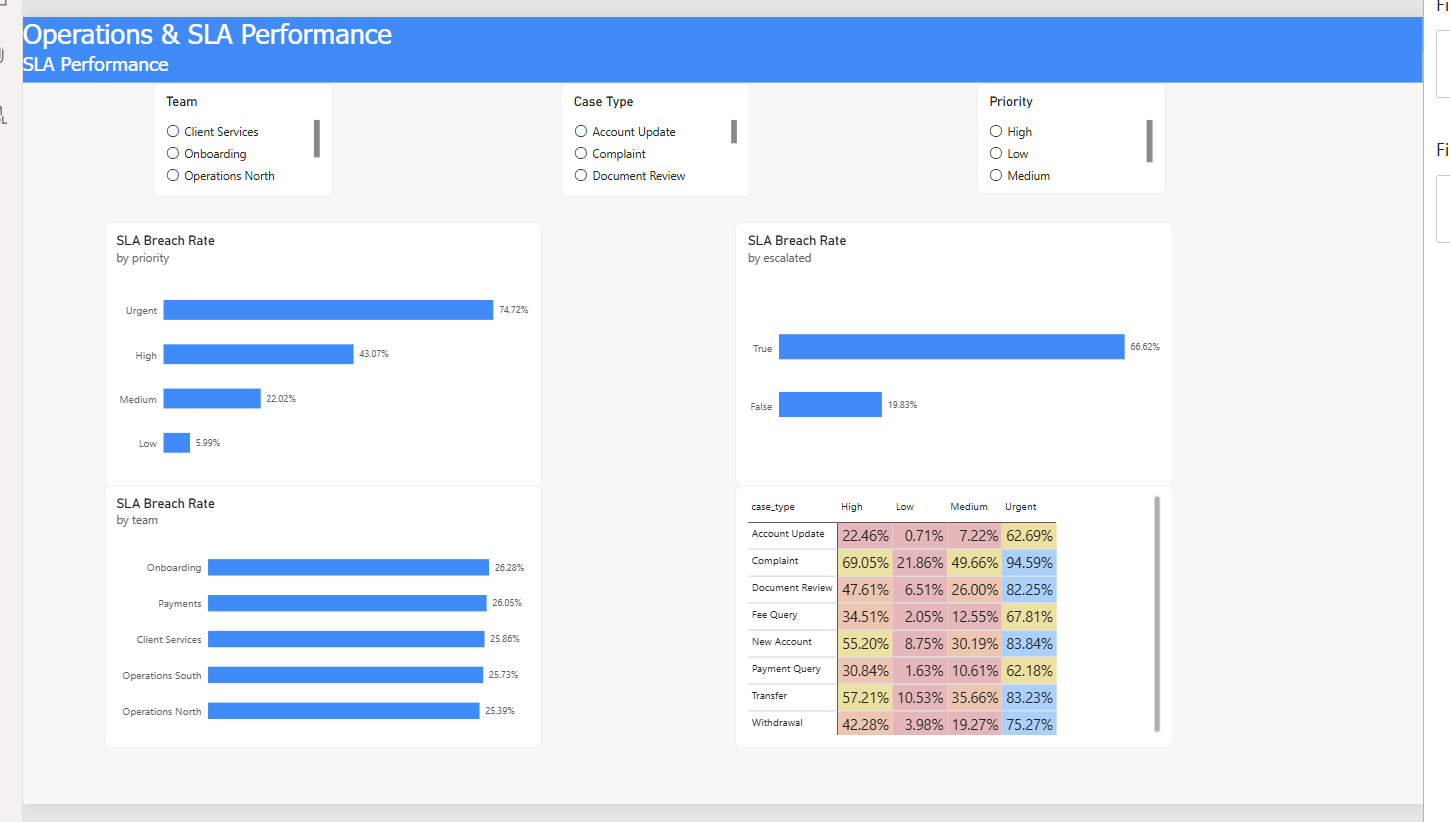

What the dashboard file says about the page in this screenshot:
{"tool":"powerbi","page":{"name":"SLA Performance","canvas":[1920,1080],"ordinal":1},"visuals":[{"type":"clusteredBarChart","fields":{"Category":["analysis_cases (002).priority"],"Y":["analysis_cases (002).SLA Breach Rate"]},"box":[110.4,281.3,600.2,360.5],"z":0},{"type":"clusteredBarChart","fields":{"Category":["analysis_cases (002).team"],"Y":["analysis_cases (002).SLA Breach Rate"]},"box":[110.4,641.9,600,360],"z":1000},{"type":"clusteredBarChart","fields":{"Category":["analysis_cases (002).escalated"],"Y":["analysis_cases (002).SLA Breach Rate"]},"box":[977.4,281.3,600,360.5],"z":2000},{"type":"pivotTable","fields":{"Columns":["analysis_cases (002).priority"],"Rows":["analysis_cases (002).case_type"],"Values":["analysis_cases (002).SLA Breach Rate"]},"box":[977.4,641.9,600,360],"z":3000},{"type":"listSlicer","fields":{"Values":["analysis_cases (002).team"]},"box":[179.8,90.4,245.9,156.3],"z":4000,"group":"g1"},{"type":"listSlicer","fields":{"Values":["analysis_cases (002).case_type"]},"box":[738.7,90.4,258.4,156.3],"z":5000,"group":"g1"},{"type":"listSlicer","fields":{"Values":["analysis_cases (002).priority"]},"box":[1309.7,90.4,258.4,152.1],"z":6000,"group":"g1"},{"type":"shape","title":"Operations & SLA Performance","box":[0,0,1919.3,90],"z":6001},{"type":"group","id":"g1","title":"Group 1","box":[179.8,90.4,1388.3,156.3],"z":6002}]}

Visuals, with their boxes on the page's 1920x1080 design canvas (x1, y1, x2, y2). These are canvas units, not pixel positions in the 1450x822 screenshot, which may show the page scaled, cropped or inside an application window:
clusteredBarChart - analysis_cases (002).priority x analysis_cases (002).SLA Breach Rate: left=110, top=281, right=711, bottom=642
clusteredBarChart - analysis_cases (002).team x analysis_cases (002).SLA Breach Rate: left=110, top=642, right=710, bottom=1002
clusteredBarChart - analysis_cases (002).escalated x analysis_cases (002).SLA Breach Rate: left=977, top=281, right=1577, bottom=642
pivotTable - analysis_cases (002).priority x analysis_cases (002).case_type: left=977, top=642, right=1577, bottom=1002
listSlicer - analysis_cases (002).team: left=180, top=90, right=426, bottom=247
listSlicer - analysis_cases (002).case_type: left=739, top=90, right=997, bottom=247
listSlicer - analysis_cases (002).priority: left=1310, top=90, right=1568, bottom=242
"Operations & SLA Performance" shape: left=0, top=0, right=1919, bottom=90
"Group 1" group: left=180, top=90, right=1568, bottom=247
